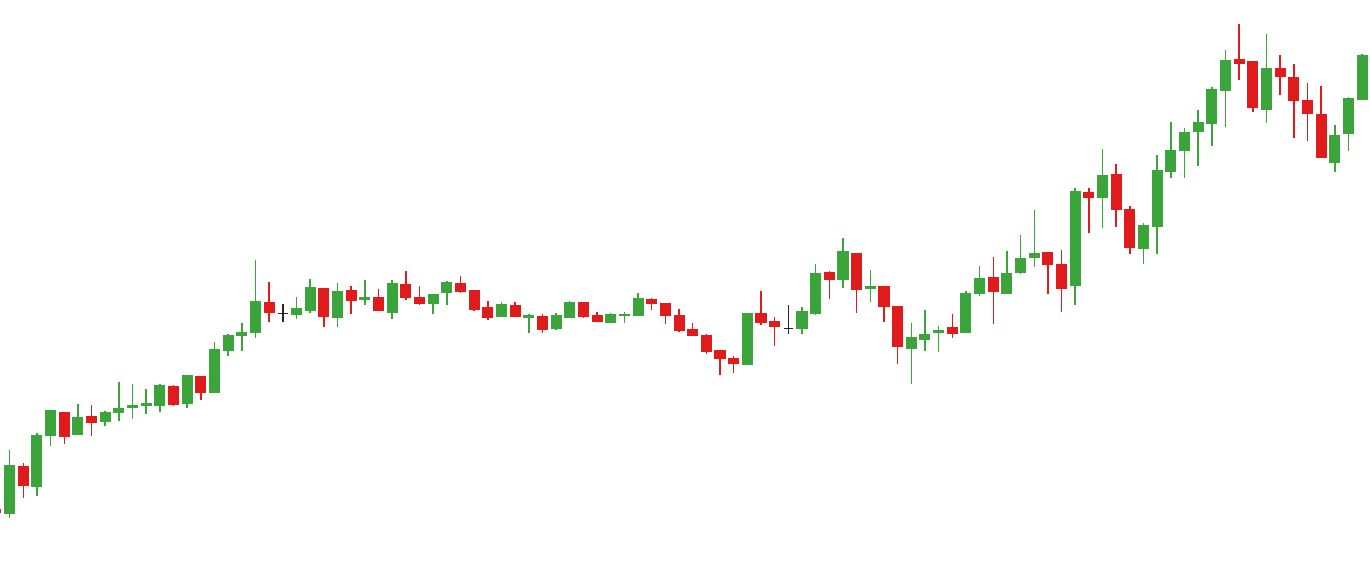buy: (714, 296, 920, 391)
